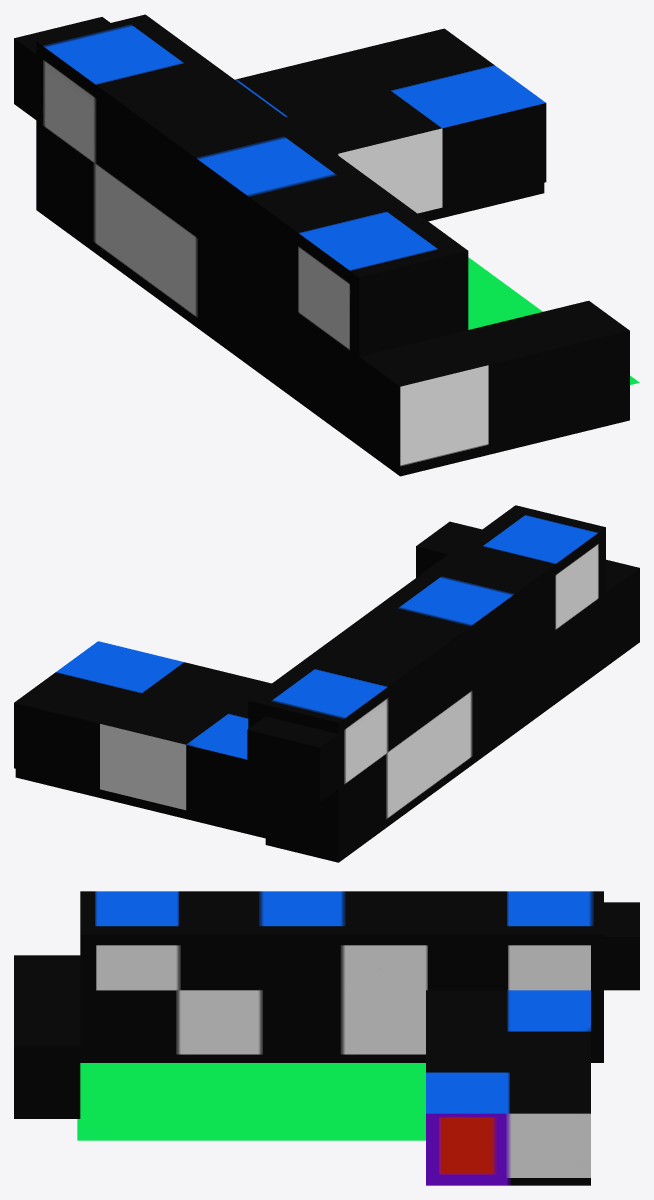
File: house 1 do 9.fbx
3 renders of one model, top to bottom at view 1: azimuth 30°, elevation 25°; view 2: azimuth 150°, elevation 25°; view 3: azimuth 270°, elevation 25°, orthographic. The views are drawn at different scales.
Parts seen in each view (by area): view 1: Cube; view 2: Cube; view 3: Cube.
Part boxes in pixels (x1,y1,x2,y2): Cube: [14, 14, 639, 476]; Cube: [14, 505, 639, 862]; Cube: [14, 891, 639, 1185].
Size of the model in its own units: 2243 by 920 by 3749.
